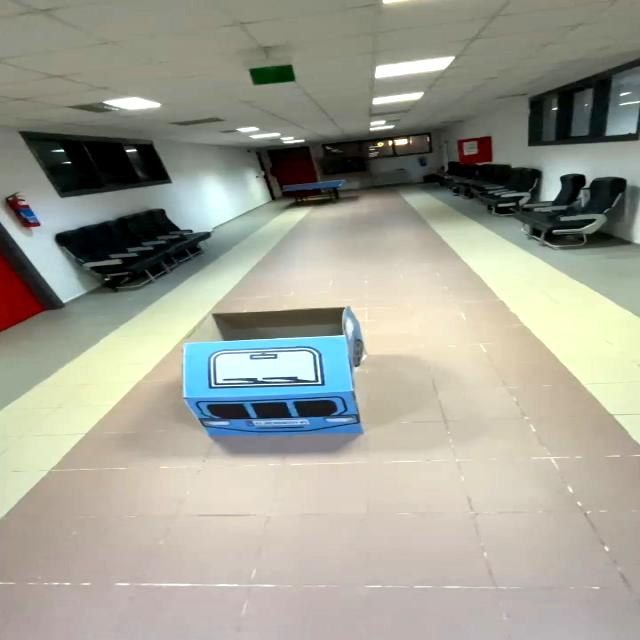blue_car: (141, 289, 386, 451)
